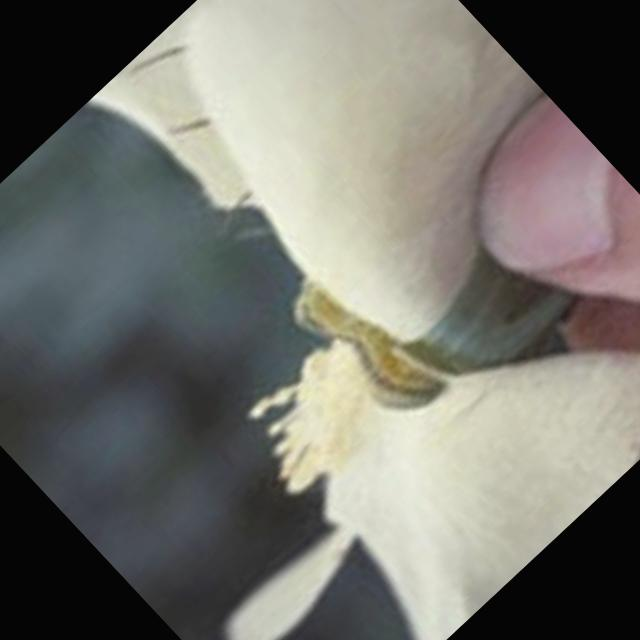Beet armyworm: (240, 210, 492, 464)
